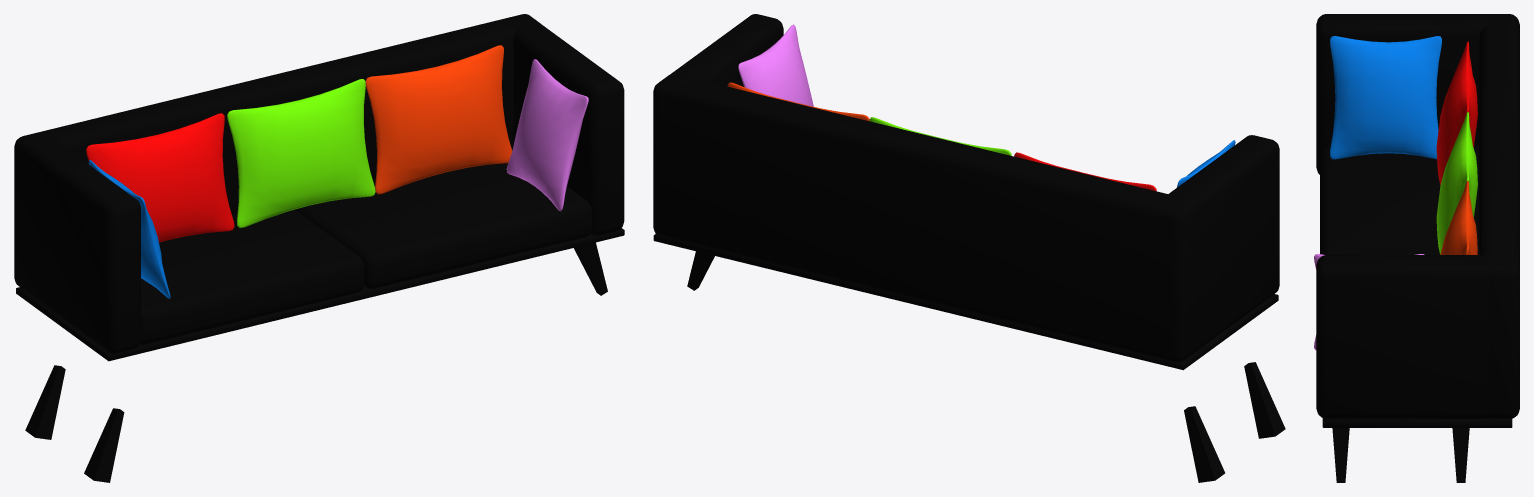
The model's file is 长沙发.FBX.
3 views of the same model, side by side, from view 1: azimuth 30°, elevation 25°; view 2: azimuth 150°, elevation 25°; view 3: azimuth 270°, elevation 25° (orthographic). The views are drawn at different scales.
Visible parts, largest first — view 1: ChamferBox010, ChamferBox005, ChamferBox004, ChamferBox001, ChamferBox008, ChamferBox009, ChamferBox007, ChamferBox003, ChamferBox012, ChamferBox006, ChamferBox011, Box004 (+2 smaller); view 2: ChamferBox001, ChamferBox010, ChamferBox006, ChamferBox003, ChamferBox012, Box005, Box004; view 3: ChamferBox003, ChamferBox001, ChamferBox004, ChamferBox011, ChamferBox010, ChamferBox007, ChamferBox008, ChamferBox006, ChamferBox009, Box002, Box003.
Boxes of the visible parts, x1,y1,x2,y2 form: ChamferBox010: [14, 133, 140, 353]; ChamferBox005: [295, 147, 592, 288]; ChamferBox004: [139, 209, 364, 344]; ChamferBox001: [22, 14, 539, 214]; ChamferBox008: [227, 79, 375, 228]; ChamferBox009: [365, 45, 512, 194]; ChamferBox007: [86, 113, 234, 242]; ChamferBox003: [510, 17, 624, 235]; ChamferBox012: [506, 59, 588, 211]; ChamferBox006: [16, 228, 624, 361]; ChamferBox011: [89, 160, 170, 298]; Box004: [25, 365, 65, 439]; ChamferBox001: [653, 74, 1185, 362]; ChamferBox010: [1161, 135, 1279, 362]; ChamferBox006: [653, 234, 1278, 370]; ChamferBox003: [664, 14, 783, 86]; ChamferBox012: [738, 24, 813, 106]; Box005: [1244, 362, 1285, 438]; Box004: [1184, 406, 1224, 482]; ChamferBox003: [1316, 255, 1509, 418]; ChamferBox001: [1479, 15, 1519, 418]; ChamferBox004: [1320, 145, 1479, 254]; ChamferBox011: [1330, 36, 1441, 159]; ChamferBox010: [1316, 14, 1517, 174]; ChamferBox007: [1436, 41, 1477, 185]; ChamferBox008: [1436, 112, 1477, 254]; ChamferBox006: [1322, 418, 1512, 427]; ChamferBox009: [1440, 180, 1477, 254]; Box002: [1332, 428, 1349, 482]; Box003: [1452, 428, 1469, 482].
Bounding box in the file's own units: 184 × 93.74 × 60.81.
